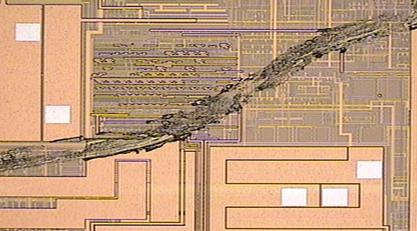SCRATCH: (1, 1, 417, 179)
